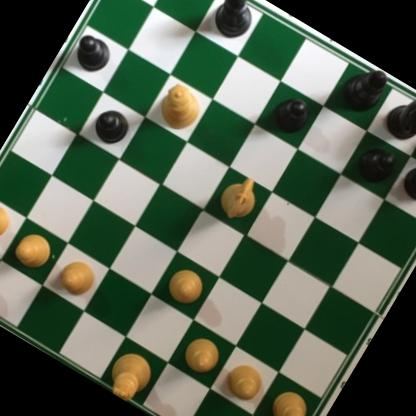black-bishop: (334, 57, 395, 120), (206, 0, 265, 47)
black-knight: (378, 85, 416, 148)
black-pawn: (265, 88, 316, 141), (350, 139, 401, 192), (66, 29, 118, 79), (85, 100, 135, 150), (396, 155, 416, 210)
black-rook: (413, 106, 416, 178)
white-king: (96, 343, 157, 406)
white-knight: (211, 167, 268, 228)
white-pawn: (216, 355, 271, 409), (175, 329, 228, 381), (7, 225, 59, 277), (159, 261, 210, 312), (53, 253, 101, 302), (258, 380, 317, 416), (0, 191, 19, 245)
white-queen: (153, 76, 211, 134)
white-rook: (229, 415, 299, 416)
